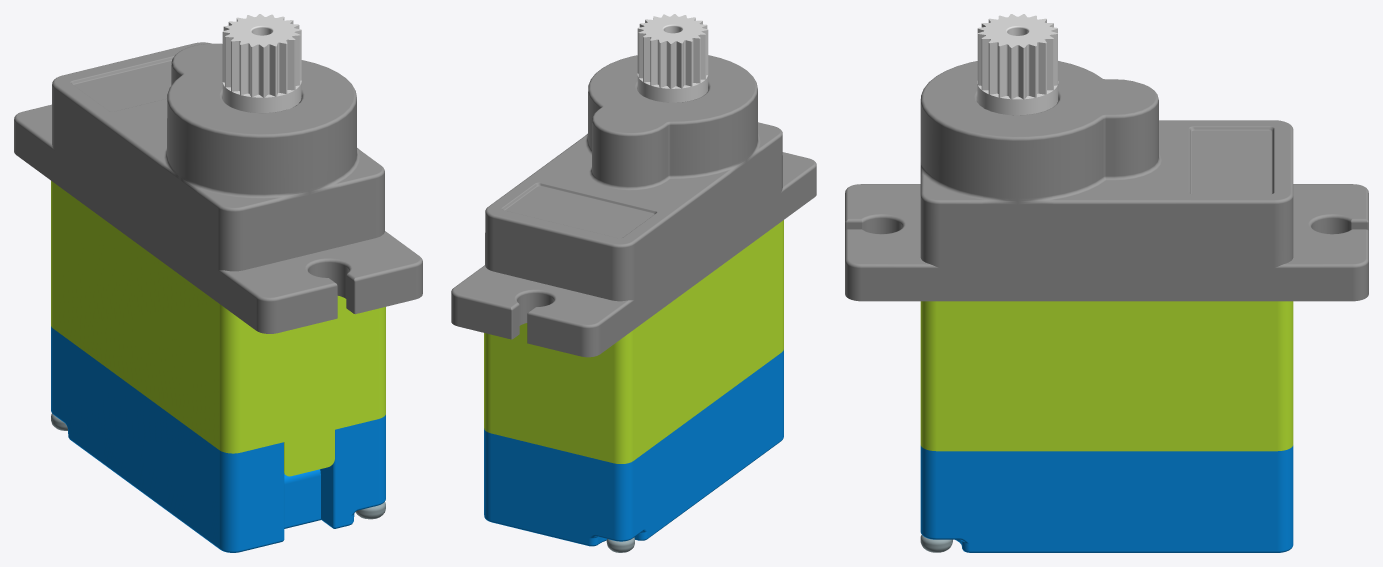
The model's file is SG90 Servo.gltf.
3 views of the same model, side by side, from view 1: azimuth 30°, elevation 25°; view 2: azimuth 150°, elevation 25°; view 3: azimuth 270°, elevation 25° (orthographic). The views are drawn at different scales.
Visible parts, largest first — view 1: SOLID001, SOLID004, SOLID008, SOLID006; view 2: SOLID001, SOLID004, SOLID008, SOLID006; view 3: SOLID001, SOLID004, SOLID008, SOLID006.
Part boxes in pixels (x1,y1,x2,y2): SOLID001: [14, 42, 422, 333]; SOLID004: [51, 181, 385, 476]; SOLID008: [51, 326, 385, 552]; SOLID006: [222, 14, 301, 112]; SOLID001: [451, 55, 816, 357]; SOLID004: [484, 220, 783, 463]; SOLID008: [484, 350, 783, 546]; SOLID006: [637, 14, 708, 102]; SOLID001: [845, 61, 1368, 301]; SOLID004: [920, 301, 1293, 451]; SOLID008: [920, 445, 1293, 552]; SOLID006: [977, 14, 1058, 115].
Size of the model in its own units: 0.012 by 0.0329 by 0.0323.
